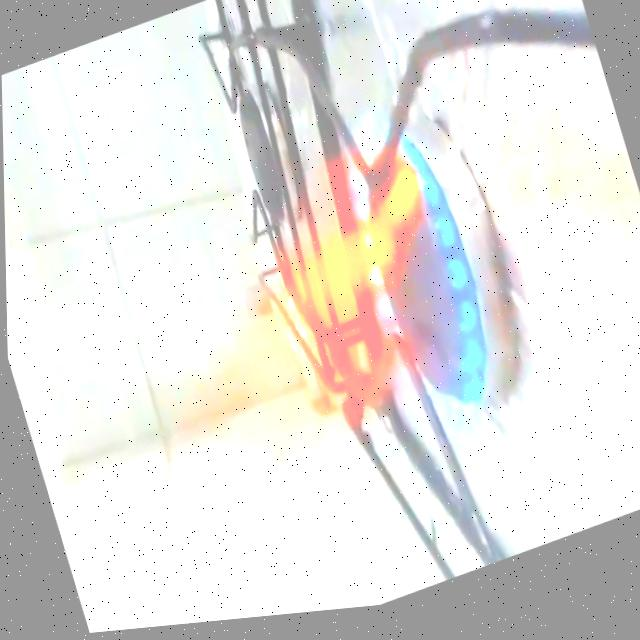Fire: (94, 92, 518, 557)
